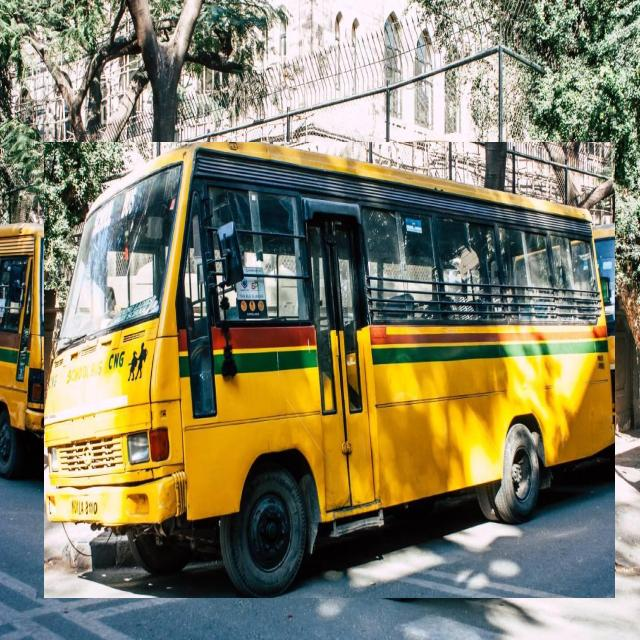bus: (44, 142, 615, 598)
